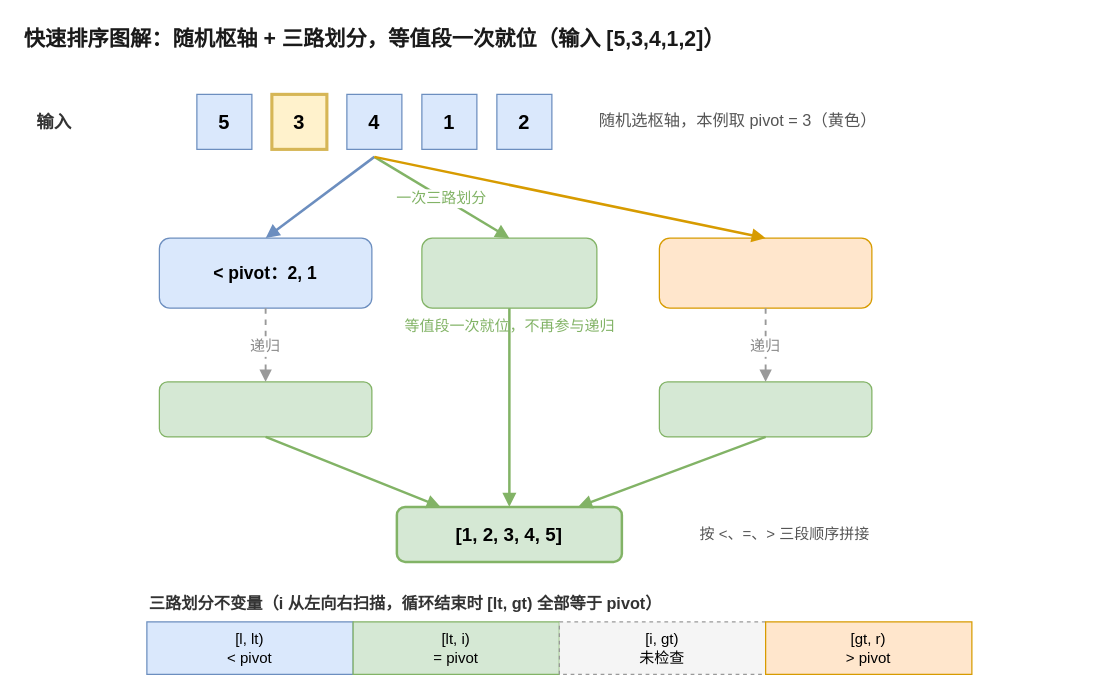
This 1105x696 diagram has some shape labels left out. Here are the shapes that lost their labels. From the top down, the box of each, then its label:
(421, 237, 597, 308): = pivot：3
(658, 237, 872, 308): > pivot：4, 5
(158, 381, 372, 437): [1, 2] 有序
(658, 381, 872, 437): [4, 5] 有序
